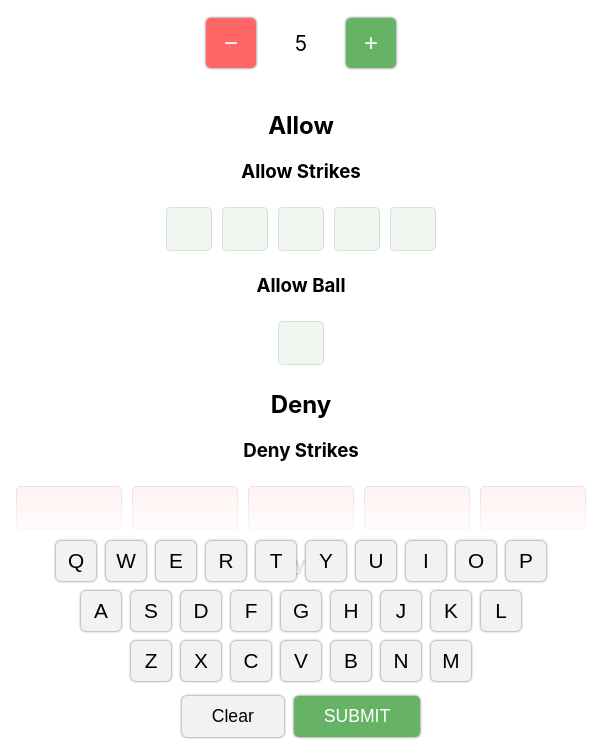
Keyboard Component Test › When focusing on the strike zone, the clicked keyboard enters the strike
Click the button "A": (101, 611) [81,591,121,631]
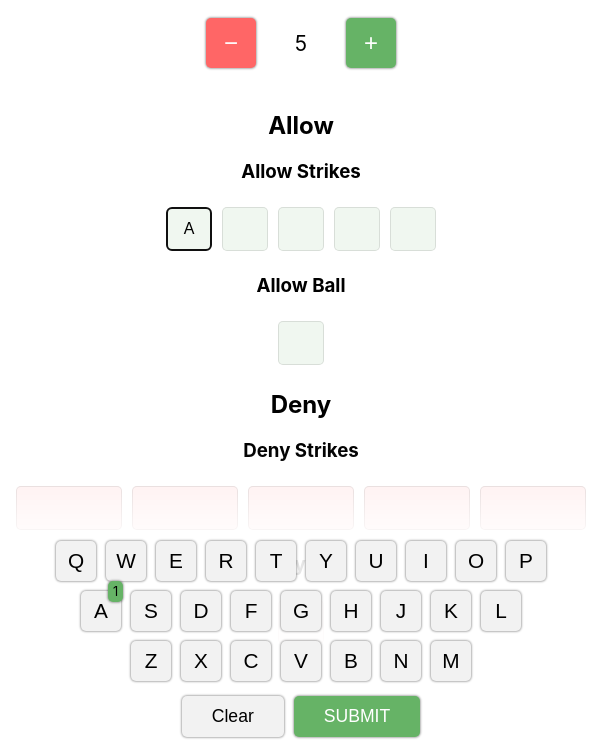
expect the field named "strike-0" holds "A": met, box [166,206,212,250]
